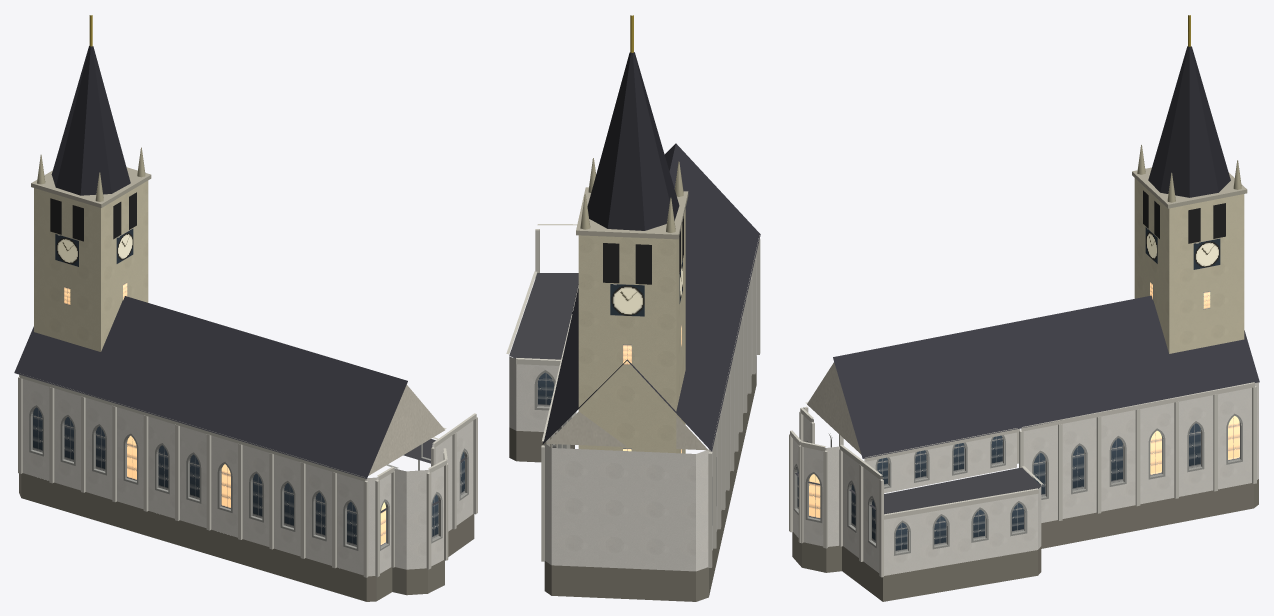
Rendered from peterpaul.glb.
3 renders of one model, left to right at view 1: azimuth 30°, elevation 25°; view 2: azimuth 150°, elevation 25°; view 3: azimuth 270°, elevation 25°, orthographic. The views are drawn at different scales.
Parts seen in each view (by area): view 1: peterpaul; view 2: peterpaul; view 3: peterpaul.
Part boxes in pixels (left/top/right/bottom): peterpaul: left=14, top=15, right=477, bottom=601; peterpaul: left=506, top=15, right=760, bottom=601; peterpaul: left=789, top=15, right=1259, bottom=601.
Size of the model in its own units: 41.35 by 60.61 by 54.63.
3 materials, 3 textured.
